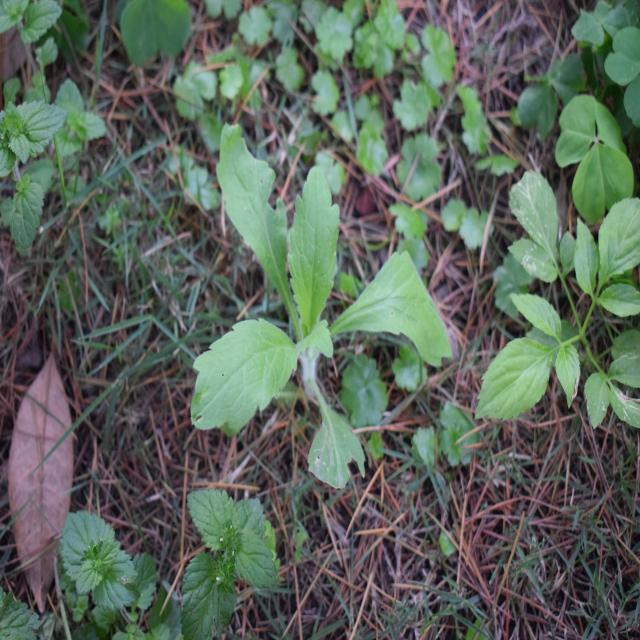horseweed: (186, 118, 440, 426)
